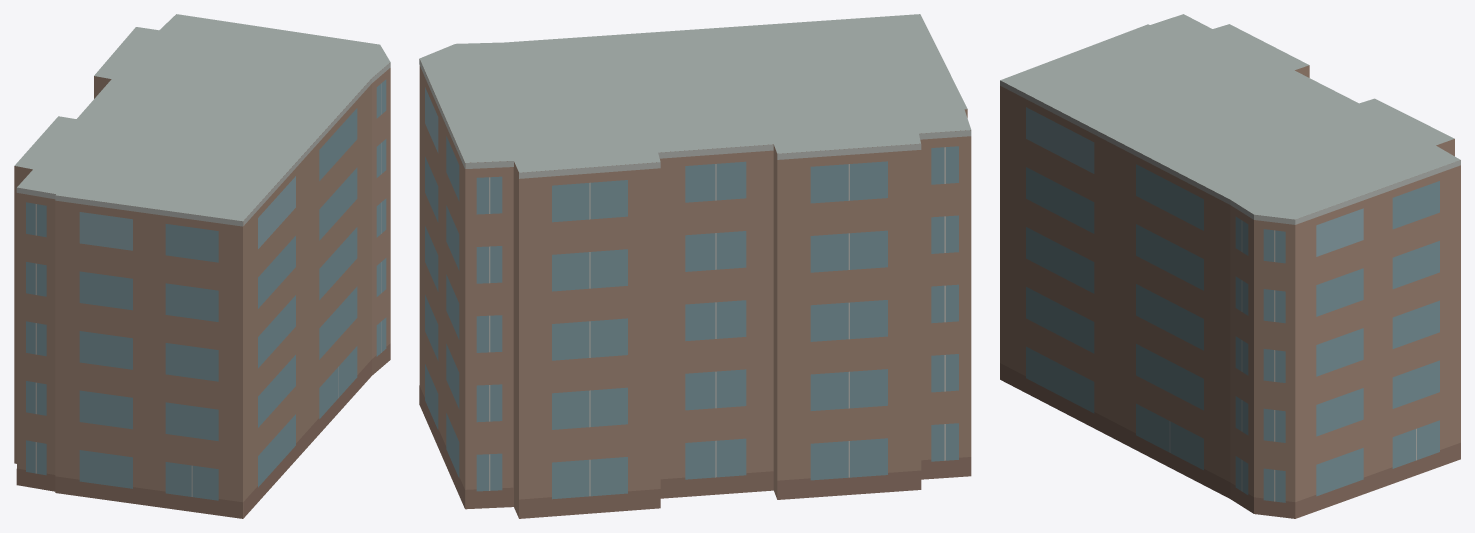
The model's file is survey-upis-32839566.glb.
3 views of the same model, side by side, from view 1: azimuth 30°, elevation 25°; view 2: azimuth 150°, elevation 25°; view 3: azimuth 270°, elevation 25° (orthographic). The views are drawn at different scales.
Parts seen in each view (by area): view 1: survey-upis-32839566.tmp; view 2: survey-upis-32839566.tmp; view 3: survey-upis-32839566.tmp.
Boxes of the visible parts, bbox=[...] form: survey-upis-32839566.tmp: bbox=[14, 14, 390, 518]; survey-upis-32839566.tmp: bbox=[419, 14, 971, 518]; survey-upis-32839566.tmp: bbox=[1000, 14, 1460, 518].
Size of the model in its own units: 20.19 by 13.7 by 19.12.
